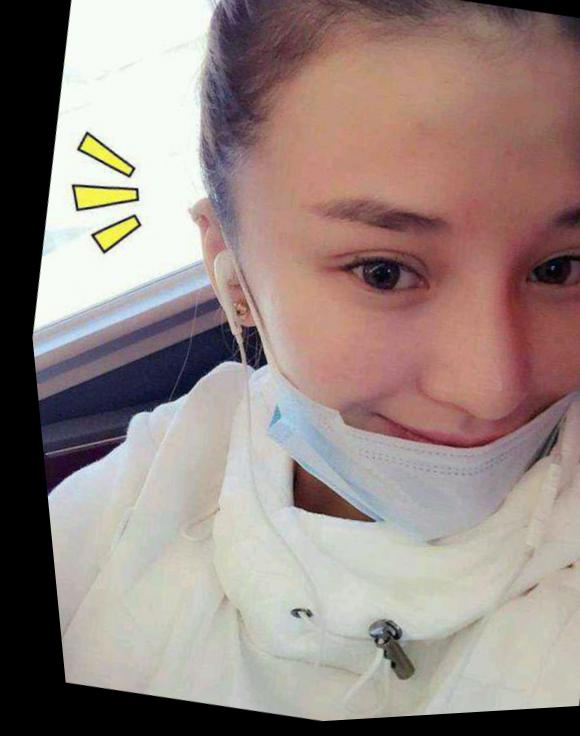WRONG: (206, 121, 580, 569)
